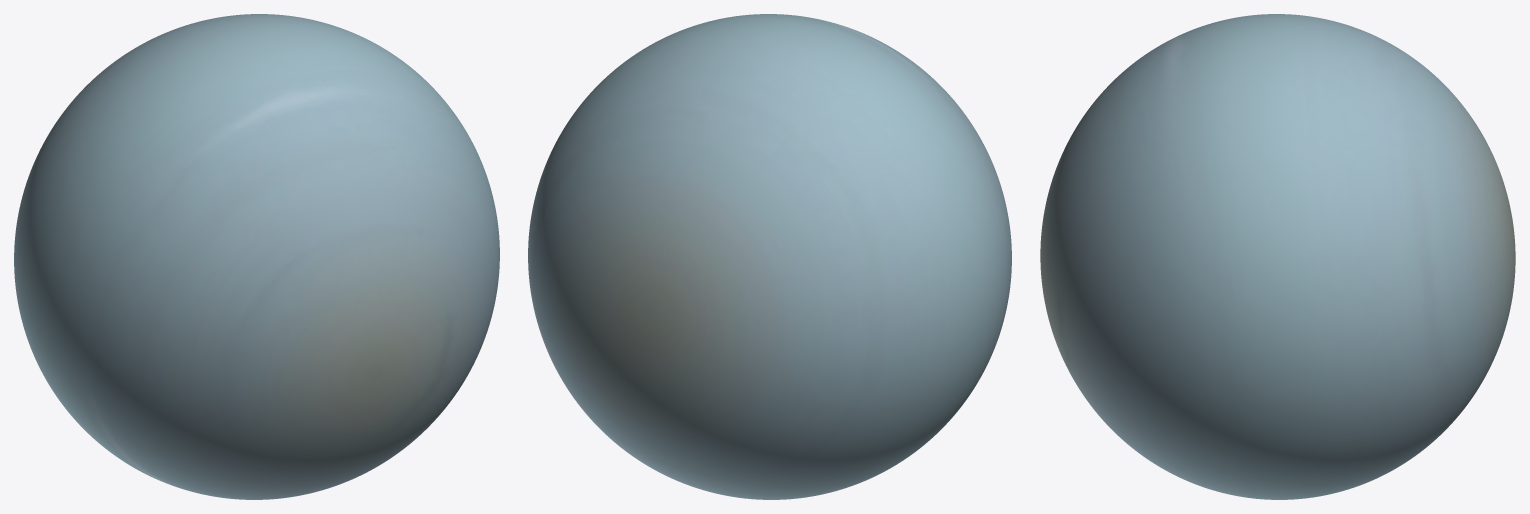
File: 7_uranus.gltf
3 views of the same model, side by side, from view 1: azimuth 30°, elevation 25°; view 2: azimuth 150°, elevation 25°; view 3: azimuth 270°, elevation 25° (orthographic).
Parts seen in each view (by area): view 1: Uranus_globe; view 2: Uranus_globe; view 3: Uranus_globe.
Boxes of the visible parts, bbox=[...] form: Uranus_globe: bbox=[14, 14, 499, 499]; Uranus_globe: bbox=[528, 14, 1011, 499]; Uranus_globe: bbox=[1040, 14, 1515, 499].
Bounding box in the file's own units: 51.12 × 51.09 × 49.97.
1 material, 1 textured.
